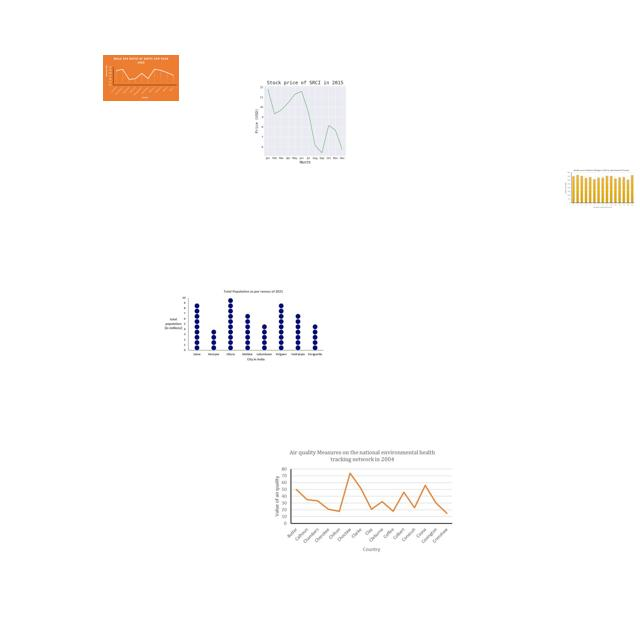Graph: (271, 447, 455, 555), (163, 289, 324, 362), (243, 75, 364, 166), (103, 55, 179, 101), (563, 167, 636, 210)
